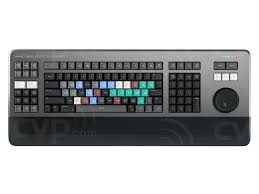keyboard: (0, 44, 254, 147)
